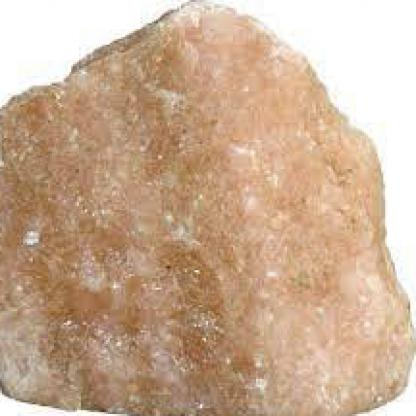Metamorphic_Marble: (2, 2, 415, 415)
